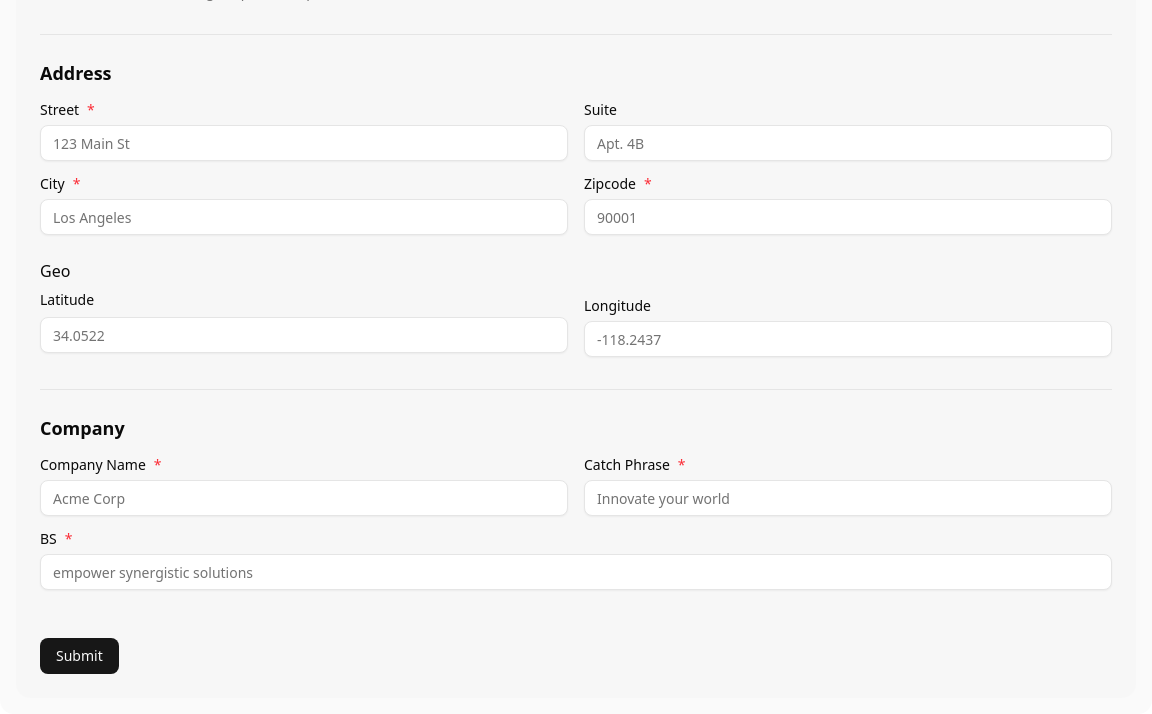
Test: shows validation errors for empty required fields
(page scrolled)
Submit the form without filling fields
Click the button with test id "submit" at (79, 656), box [40,638,119,674]
(page scrolled)
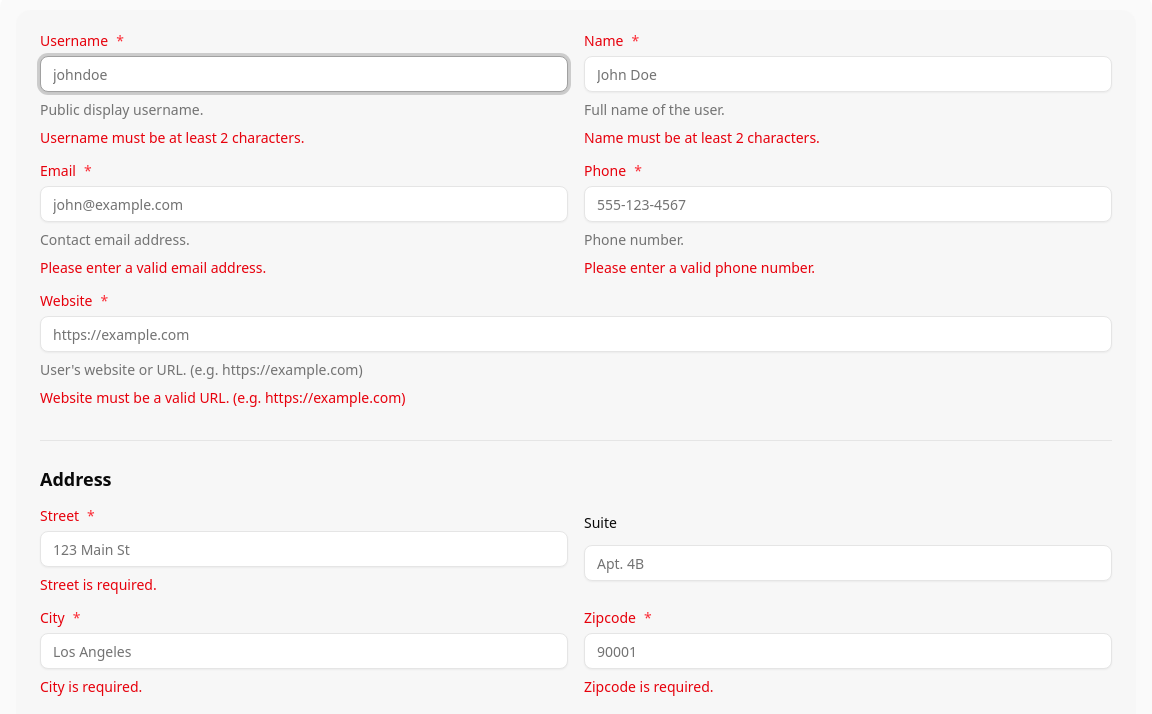
Check: the text "Website must be a valid URL. (e.g. https://example.com)" is shown, box [40,388,406,407]
Check: the text "Username must be at least 2 characters." is shown, box [40,128,304,147]
